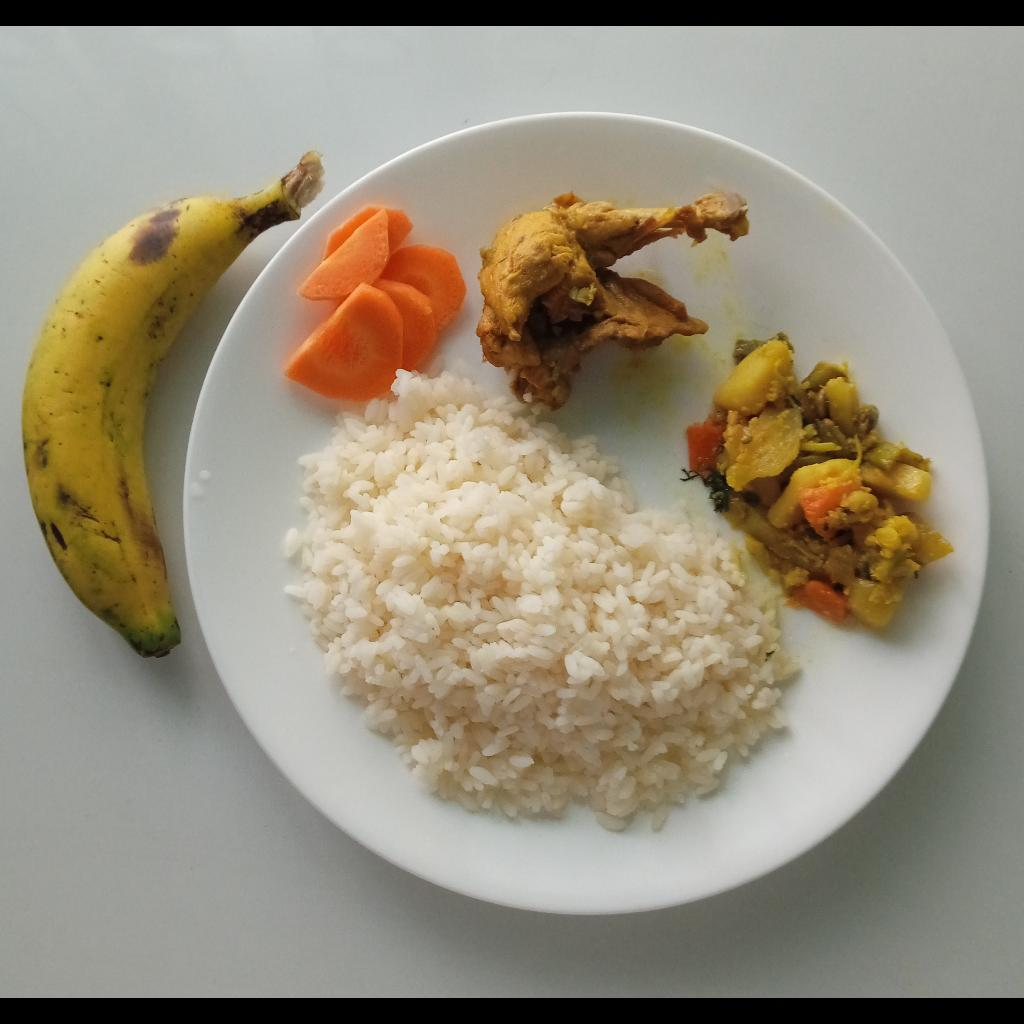banana: (23, 178, 304, 660)
carrot: (283, 205, 468, 403)
chicken: (478, 190, 751, 411)
rice: (285, 356, 804, 829)
vegetable: (689, 333, 957, 628)
